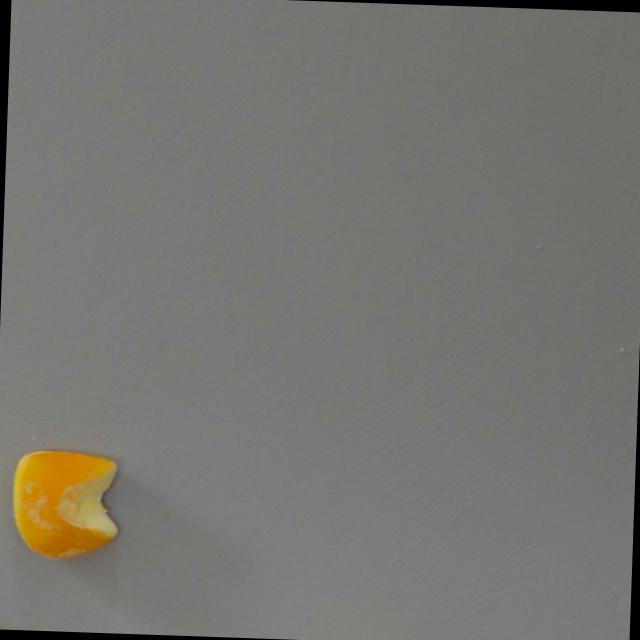pelicula: (2, 443, 129, 563)
